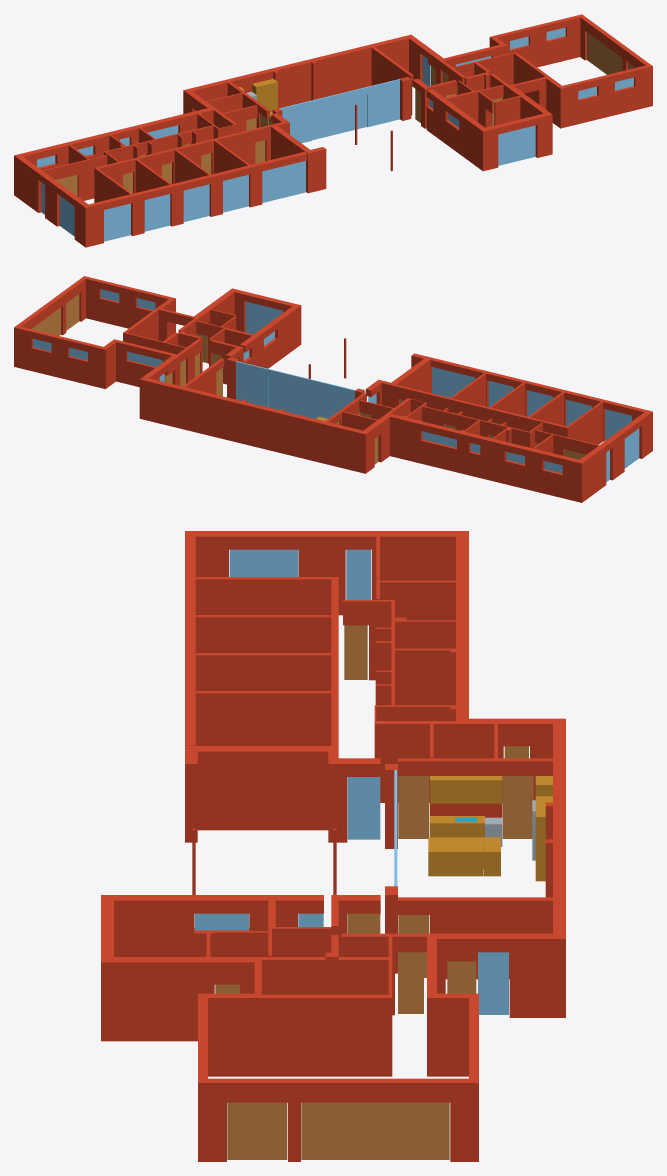
Rendered from ground_floor.glb.
3 renders of one model, top to bottom at view 1: azimuth 30°, elevation 25°; view 2: azimuth 150°, elevation 25°; view 3: azimuth 270°, elevation 25°, orthographic. The views are drawn at different scales.
Visible parts, largest first — view 1: masonry (×36), glazing (×9), door; view 2: masonry (×34), glazing (×9), door (×2); view 3: masonry (×37), door (×7), glazing (×5).
Part boxes in pixels (bbox=[...]): masonry (×36): bbox=[14, 14, 652, 247]; glazing (×9): bbox=[59, 79, 535, 241]; door: bbox=[587, 32, 622, 74]; masonry (×34): bbox=[14, 276, 652, 502]; glazing (×9): bbox=[236, 301, 639, 468]; door (×2): bbox=[31, 294, 79, 335]; masonry (×37): bbox=[101, 531, 565, 1161]; door (×7): bbox=[227, 625, 533, 1159]; glazing (×5): bbox=[194, 549, 508, 1014].
Size of the model in its own units: 45.05 by 3 by 16.05.
